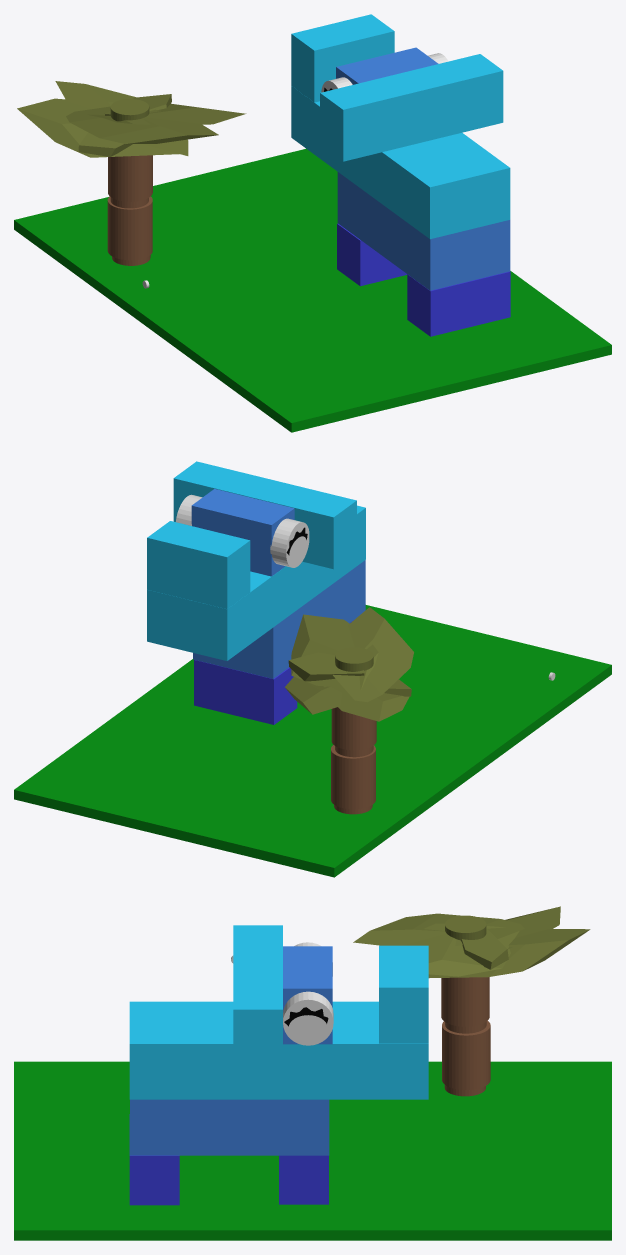
The model's file is elephant&Tree.fbx.
3 renders of one model, top to bottom at view 1: azimuth 30°, elevation 25°; view 2: azimuth 150°, elevation 25°; view 3: azimuth 270°, elevation 25°, orthographic. The views are drawn at different scales.
Visible parts, largest first — view 1: Cube, ElephantBody_T, ElephentLeg_F.004, ElephantBody_B, ElephentLeg_F.002, ElephentLeg_F.001, Cylinder.009, Cylinder.004, Cylinder, ElephentLeg_F, Cylinder.002, ElephentLeg_F.003 (+4 smaller); view 2: Cube, ElephantBody_T, ElephentLeg_F.002, ElephentLeg_F.004, ElephantBody_B, ElephentLeg_F, ElephentLeg_F.003, Cylinder.009, Cylinder.007, Cylinder, Cylinder.002, Cylinder.014 (+4 smaller); view 3: Cube, ElephantBody_T, ElephantBody_B, ElephentLeg_F.004, ElephentLeg_F.002, Cylinder, ElephentLeg_F.003, ElephentLeg_F.001, ElephentLeg_F, Cylinder.009, Cylinder.006, Cylinder.002 (+5 smaller).
Part boxes in pixels (bbox=[...]): Cube: bbox=[14, 148, 611, 432]; ElephantBody_T: bbox=[291, 86, 510, 239]; ElephentLeg_F.004: bbox=[320, 54, 503, 161]; ElephantBody_B: bbox=[337, 172, 510, 290]; ElephentLeg_F.002: bbox=[291, 14, 394, 102]; ElephentLeg_F.001: bbox=[407, 271, 510, 336]; Cylinder.009: bbox=[66, 106, 218, 144]; Cylinder.004: bbox=[17, 98, 179, 157]; Cylinder: bbox=[107, 196, 152, 260]; ElephentLeg_F: bbox=[337, 223, 407, 286]; Cylinder.002: bbox=[108, 155, 152, 201]; ElephentLeg_F.003: bbox=[336, 47, 438, 84]; Cube: bbox=[14, 605, 611, 877]; ElephantBody_T: bbox=[147, 505, 365, 660]; ElephentLeg_F.002: bbox=[147, 521, 250, 608]; ElephentLeg_F.004: bbox=[173, 461, 356, 569]; ElephantBody_B: bbox=[193, 560, 365, 678]; ElephentLeg_F: bbox=[194, 660, 297, 724]; ElephentLeg_F.003: bbox=[191, 489, 294, 576]; Cylinder.009: bbox=[332, 607, 413, 702]; Cylinder.007: bbox=[291, 614, 378, 696]; Cylinder: bbox=[331, 745, 375, 809]; Cylinder.002: bbox=[331, 707, 376, 750]; Cylinder.014: bbox=[270, 518, 309, 567]; Cube: bbox=[14, 1061, 611, 1240]; ElephantBody_T: bbox=[129, 1001, 428, 1099]; ElephantBody_B: bbox=[130, 1099, 329, 1155]; ElephentLeg_F.004: bbox=[233, 925, 282, 1065]; ElephentLeg_F.002: bbox=[379, 945, 428, 1043]; Cylinder: bbox=[442, 1020, 490, 1089]; ElephentLeg_F.003: bbox=[283, 946, 332, 1044]; ElephentLeg_F.001: bbox=[129, 1114, 179, 1205]; ElephentLeg_F: bbox=[279, 1155, 328, 1204]; Cylinder.009: bbox=[353, 913, 524, 946]; Cylinder.006: bbox=[428, 929, 590, 978]; Cylinder.002: bbox=[441, 977, 489, 1026].
Bounding box in the file's own units: 612 × 338 × 806.
